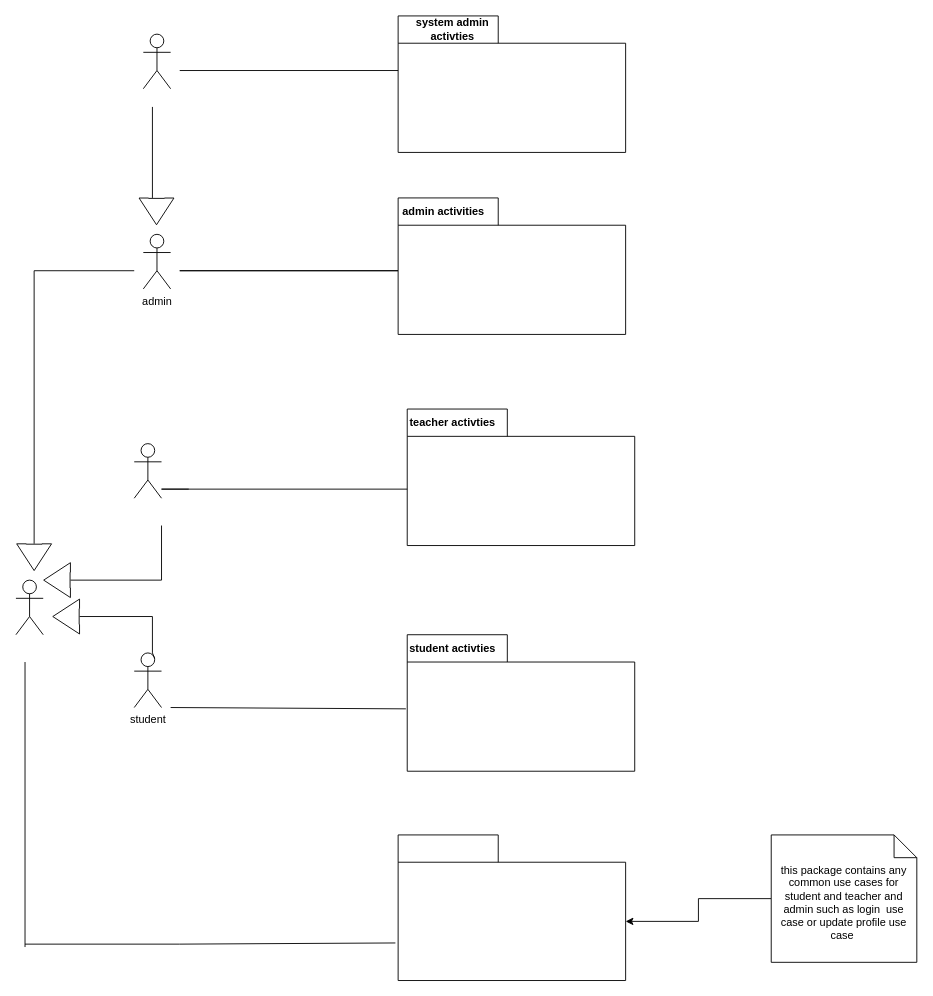
The diagram is 933 pixels wide and 996 high, and some of its shapes have lost their labels. Here are the shapes that lost their labels. From the top down, the centre of each, then its label:
(x=156, y=61): system admin
(x=147, y=470): teacher
(x=29, y=607): user
(x=511, y=907): main user function
